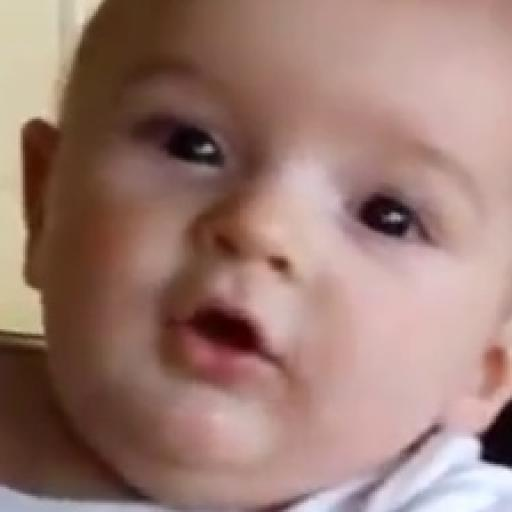Autism: (64, 10, 512, 510)
